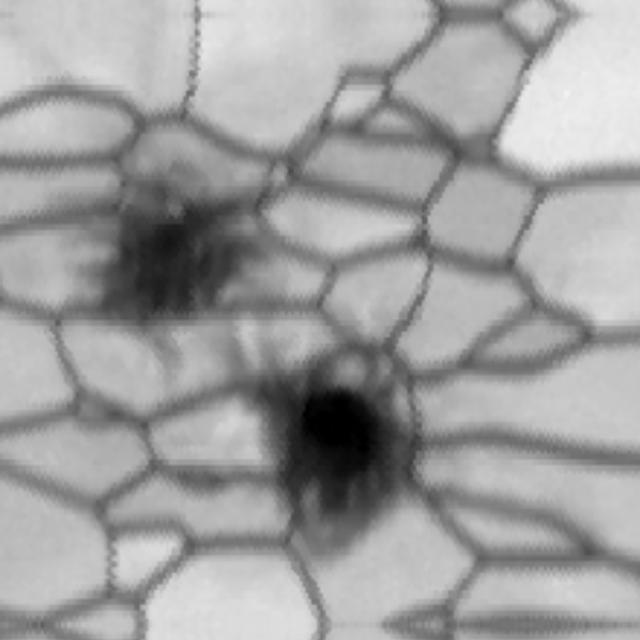good_void: (28, 100, 336, 396), (197, 291, 486, 586)
